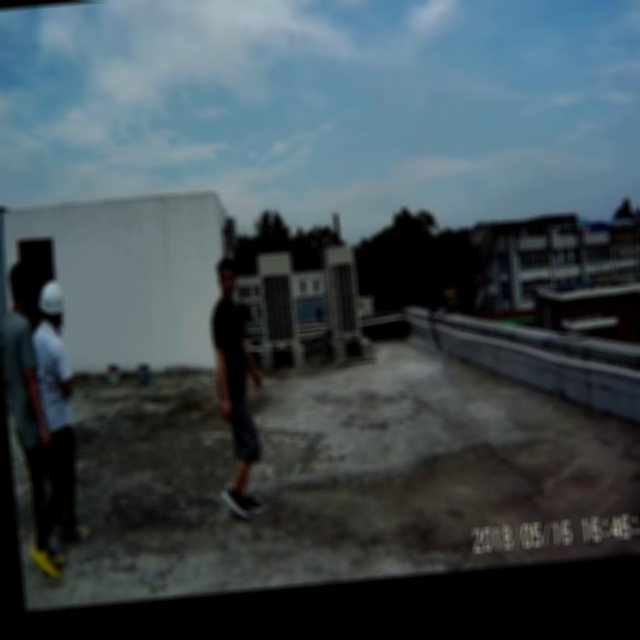Sin_Casco_Mascarrilla: (213, 254, 239, 298)
Sin_Chaleco: (208, 294, 252, 403)
